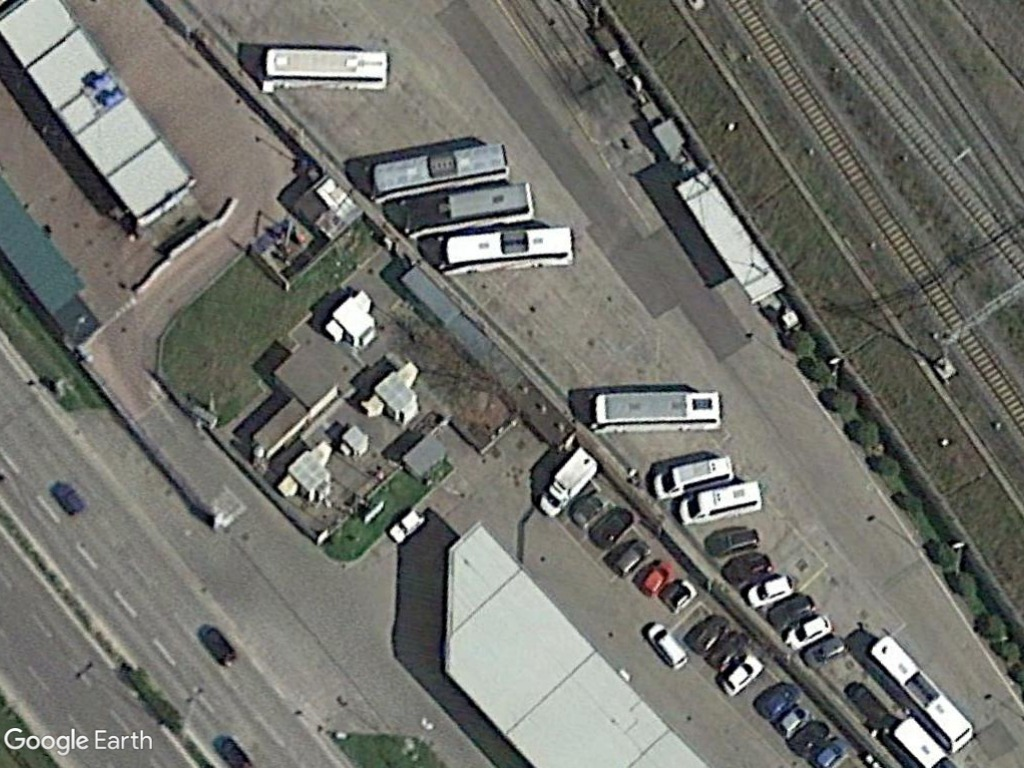bus: (859, 632, 978, 756), (359, 142, 514, 202), (424, 221, 575, 279), (401, 179, 536, 240), (583, 384, 725, 437), (253, 47, 392, 94)
car: (641, 619, 689, 673), (715, 652, 766, 699), (780, 613, 832, 654), (743, 573, 799, 610), (607, 536, 653, 579), (384, 507, 428, 547), (639, 559, 676, 601)
van: (532, 441, 597, 521), (675, 474, 764, 528), (649, 454, 735, 502)
